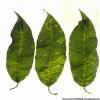Peach leaf: (33, 8, 68, 96), (68, 6, 98, 96), (4, 8, 36, 91)
